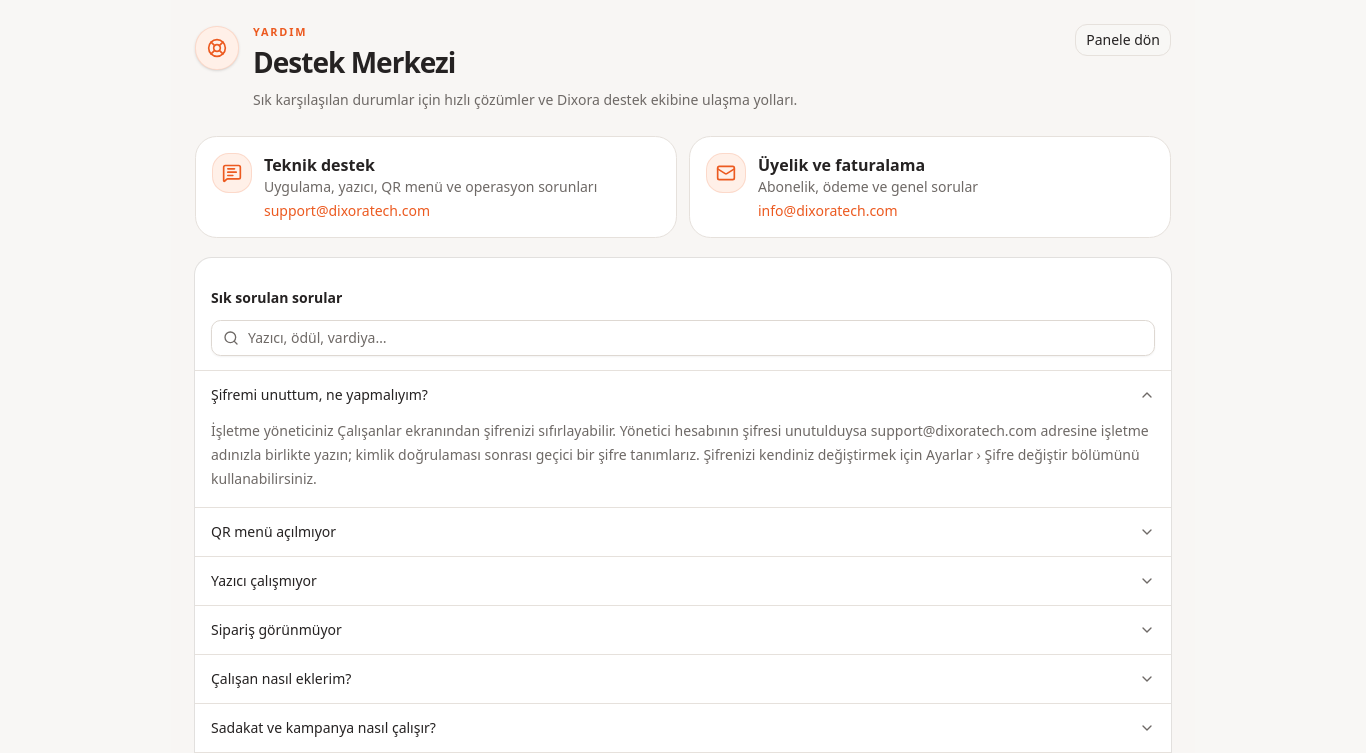
SupportCenter › finds the emailed reward-code instructions through search
Type "6 haneli" into the search field named "Yardım konularında ara". click: [683, 338]
box: [211,320,1155,356]
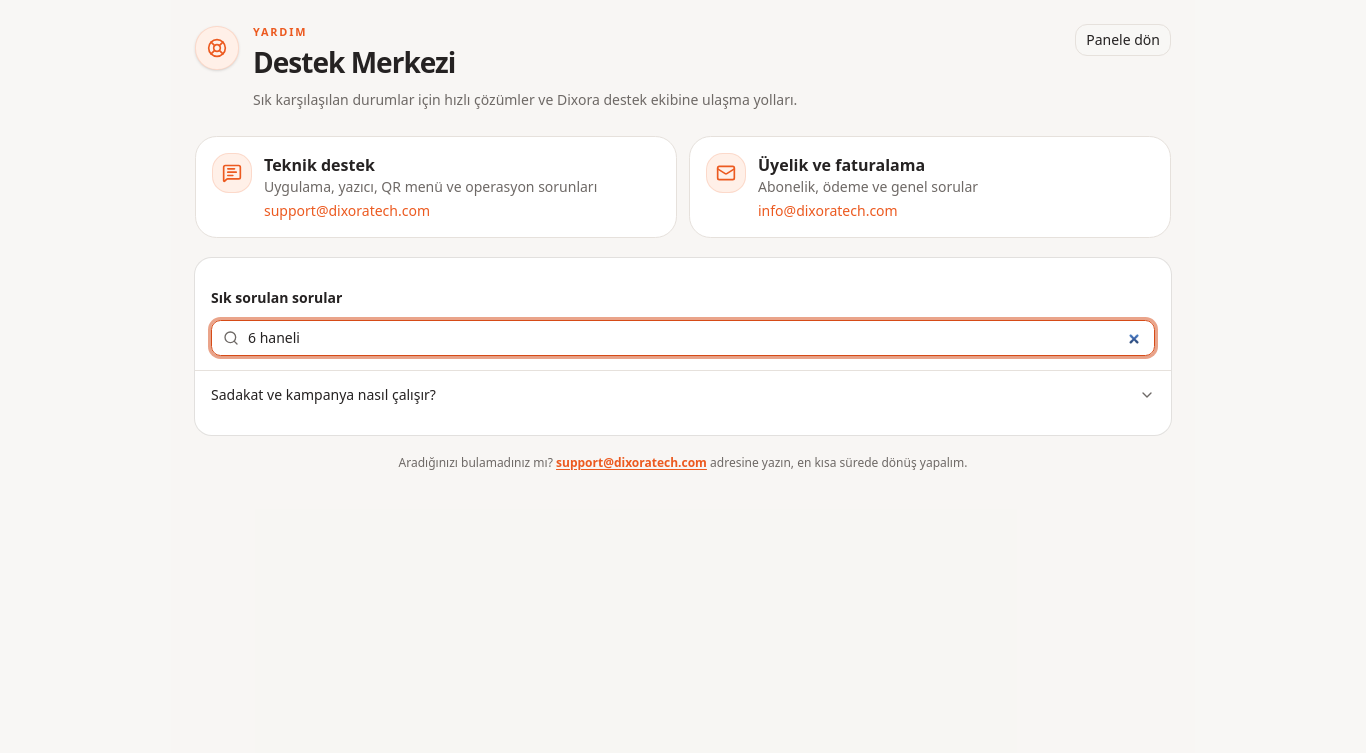
Expected: the button "Sadakat ve kampanya nasıl çalışır?" is shown, [195,371,1171,419]
Result: the button "Şifremi unuttum" is gone
